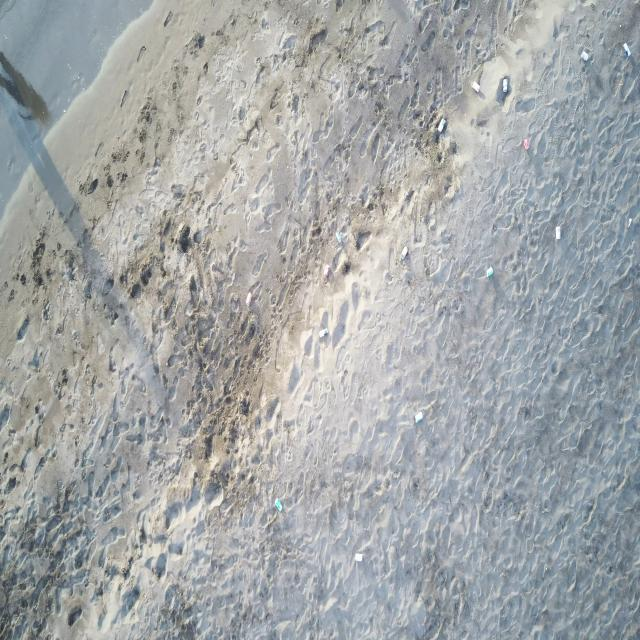tin-and-aluminum-cans: (438, 117, 447, 132), (414, 410, 424, 423), (522, 138, 532, 151), (623, 42, 631, 57), (274, 497, 282, 512), (334, 230, 342, 245), (400, 246, 409, 259), (502, 78, 509, 94), (245, 292, 253, 306), (354, 553, 364, 563), (319, 327, 328, 338), (323, 264, 330, 278), (486, 266, 494, 278), (472, 82, 480, 94), (581, 50, 589, 62), (556, 226, 561, 240)
